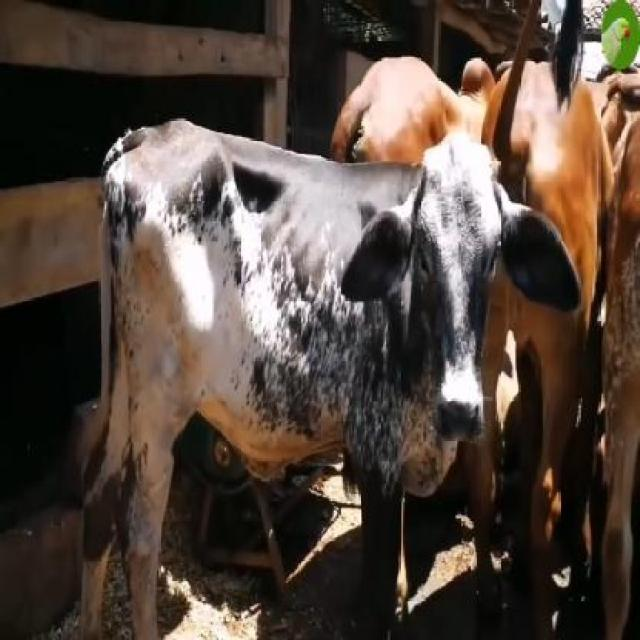Cow: (82, 119, 583, 638)
